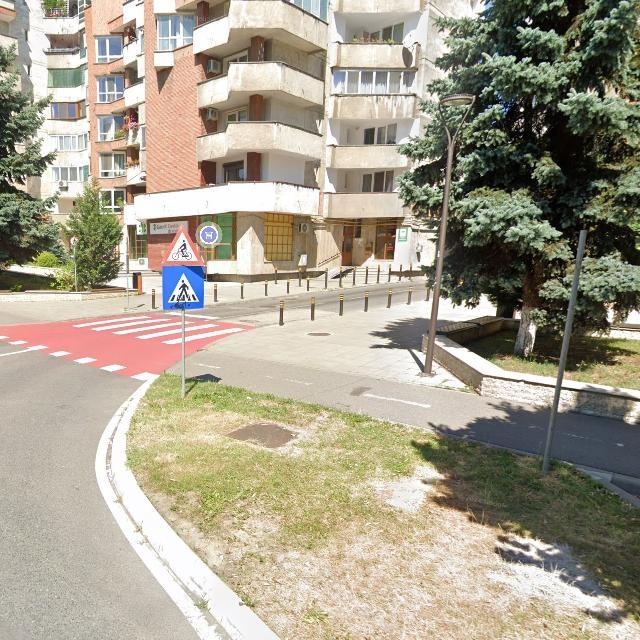info_crosswalk: (162, 265, 204, 309)
